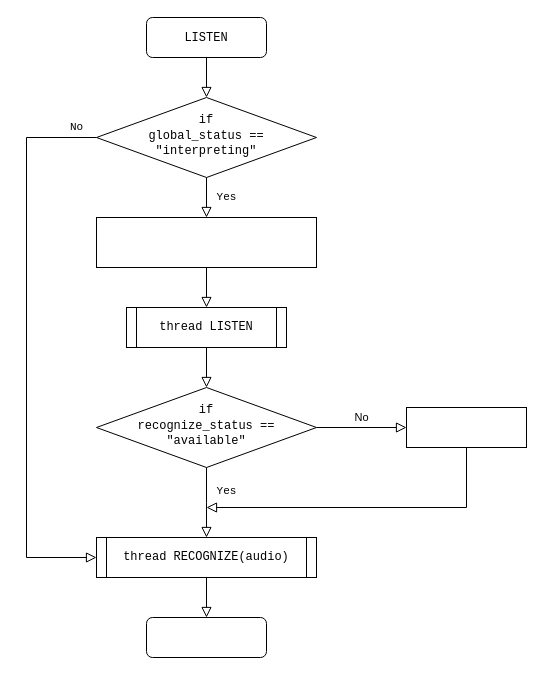
The diagram is 544 pixels wide and 675 high, and some of its shapes have lost their labels. The centre of each missing label's shape, as x and y in pixels:
"audio = recognizer_instance.listen()" belongs at (x=206, y=242).
"END" belongs at (x=206, y=637).
"wait for REGOGNIZE" belongs at (x=466, y=427).
